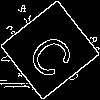C: (25, 25, 84, 83)
